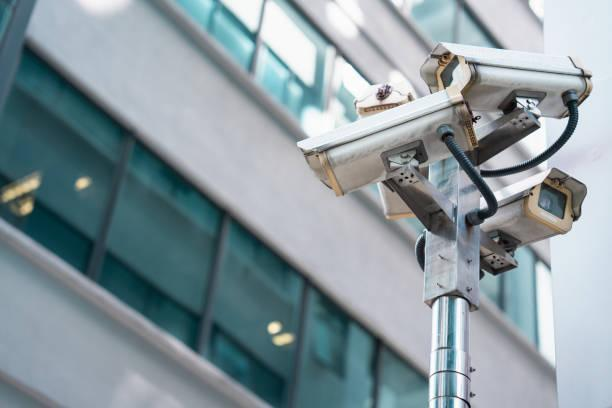camera: (293, 78, 474, 213), (399, 13, 593, 135), (470, 159, 589, 270)
